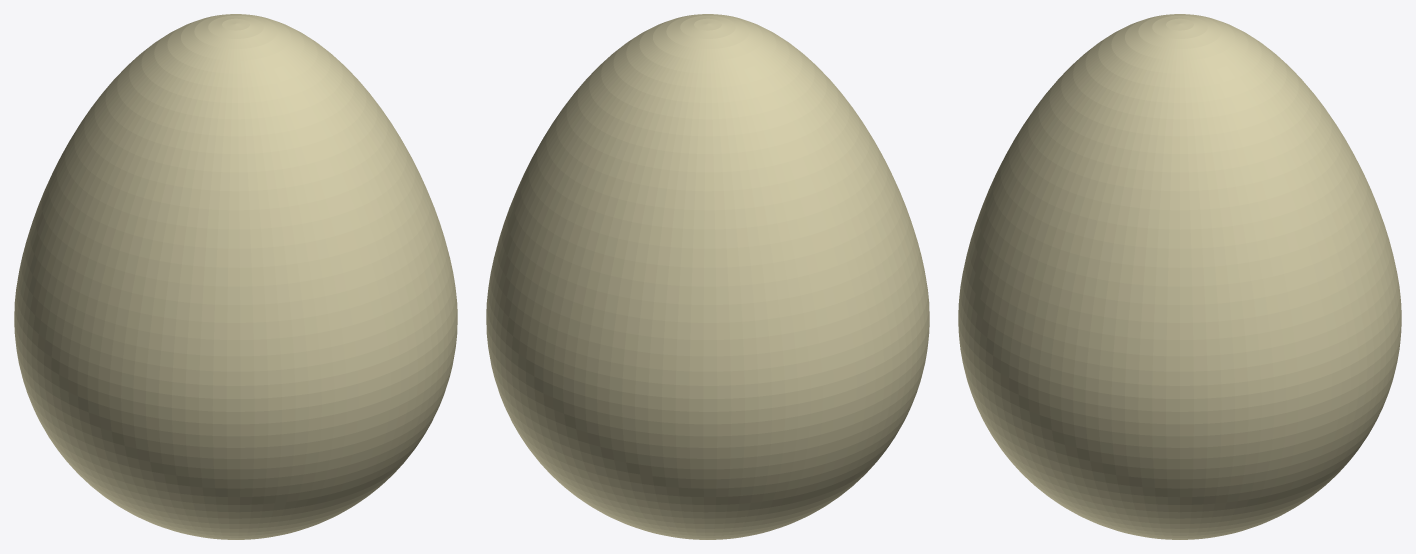
Rendered from egg.gltf.
3 renders of one model, left to right at view 1: azimuth 30°, elevation 25°; view 2: azimuth 150°, elevation 25°; view 3: azimuth 270°, elevation 25°, orthographic.
Parts seen in each view (by area): view 1: Sphere; view 2: Sphere; view 3: Sphere.
Part boxes in pixels (x1,y1,x2,y2): Sphere: (14,14,457,539); Sphere: (486,14,929,539); Sphere: (958,14,1401,539).
Size of the model in its own units: 2 by 2.46 by 2.
